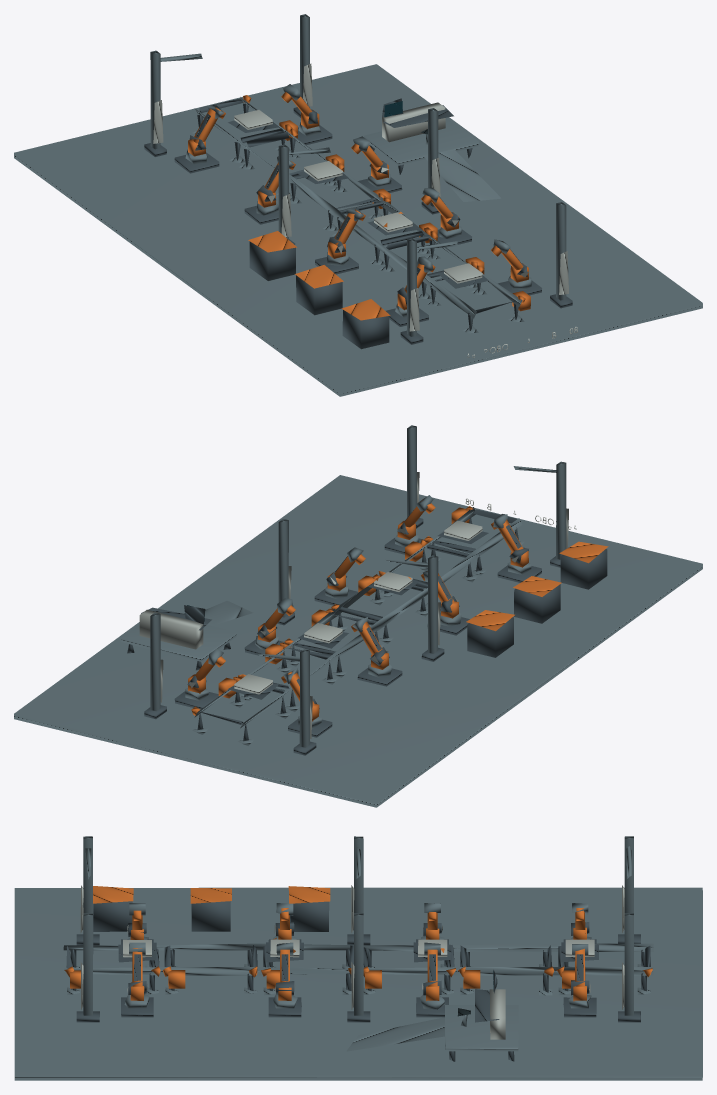
The model's file is robotic_assembly_line_d2_lod1.meshopt.glb.
3 renders of one model, top to bottom at view 1: azimuth 30°, elevation 25°; view 2: azimuth 150°, elevation 25°; view 3: azimuth 270°, elevation 25°, orthographic. The views are drawn at different scales.
Parts seen in each view (by area): view 1: ROBOTIC_ASSEMBLY_LINE_LOD1_STATIC_GEOMETRY; view 2: ROBOTIC_ASSEMBLY_LINE_LOD1_STATIC_GEOMETRY; view 3: ROBOTIC_ASSEMBLY_LINE_LOD1_STATIC_GEOMETRY.
Part boxes in pixels (x1,y1,x2,y2): ROBOTIC_ASSEMBLY_LINE_LOD1_STATIC_GEOMETRY: [14, 14, 702, 396]; ROBOTIC_ASSEMBLY_LINE_LOD1_STATIC_GEOMETRY: [14, 425, 702, 807]; ROBOTIC_ASSEMBLY_LINE_LOD1_STATIC_GEOMETRY: [14, 836, 702, 1080].
Size of the model in its own units: 17.99 by 4.97 by 28.02.
